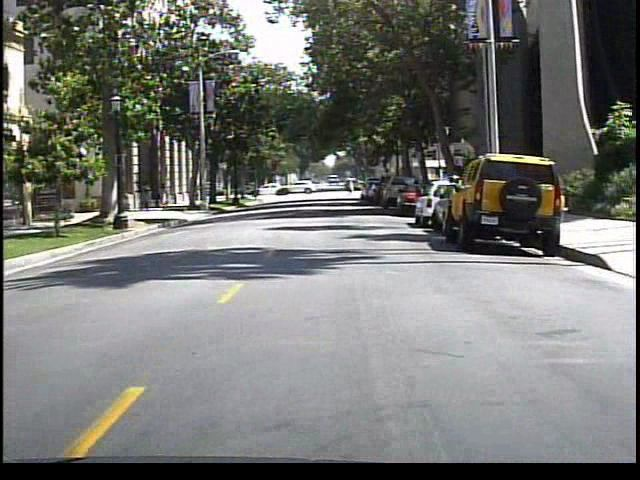person: (157, 180, 177, 213), (140, 178, 159, 212), (346, 177, 360, 199)
